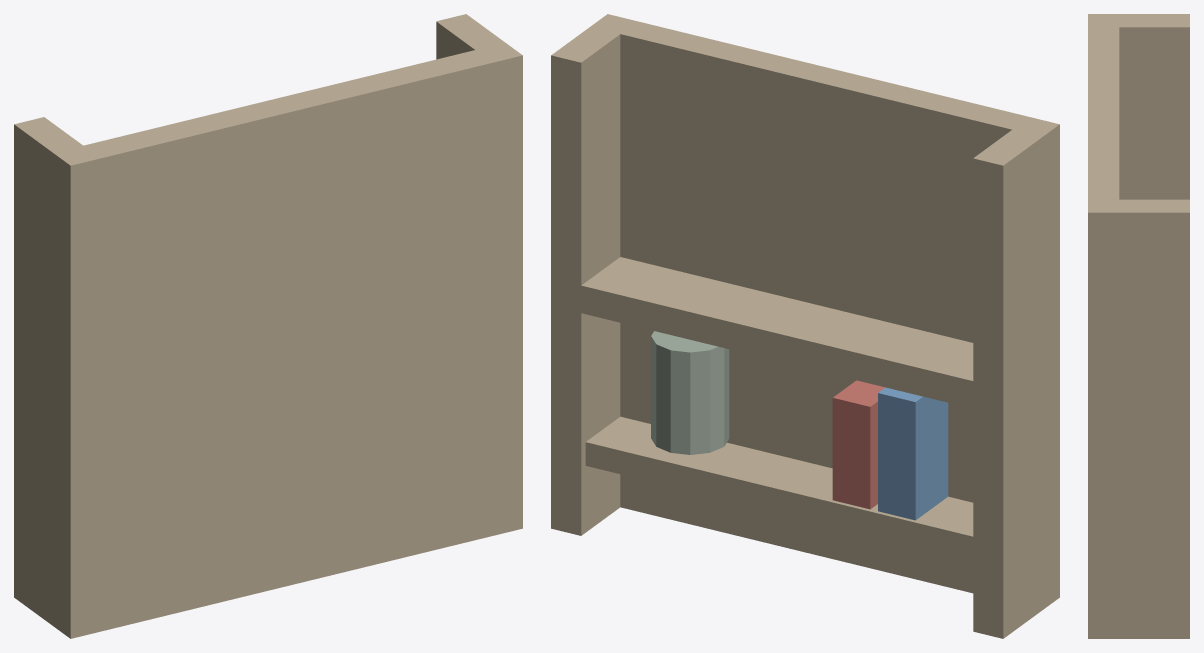
Rendered from parede_estante_nicho.glb.
3 views of the same model, side by side, from view 1: azimuth 30°, elevation 25°; view 2: azimuth 150°, elevation 25°; view 3: azimuth 270°, elevation 25° (orthographic). The views are drawn at different scales.
Visible parts, largest first — view 1: PAREDE_ESTANTE_NICHO_v01; view 2: PAREDE_ESTANTE_NICHO_v01; view 3: PAREDE_ESTANTE_NICHO_v01.
Boxes of the visible parts, x1=… form: PAREDE_ESTANTE_NICHO_v01: x1=14, y1=14, x2=522, y2=638; PAREDE_ESTANTE_NICHO_v01: x1=551, y1=14, x2=1059, y2=638; PAREDE_ESTANTE_NICHO_v01: x1=1088, y1=14, x2=1189, y2=638.
Size of the model in its own units: 0.6 by 0.6 by 0.13.
